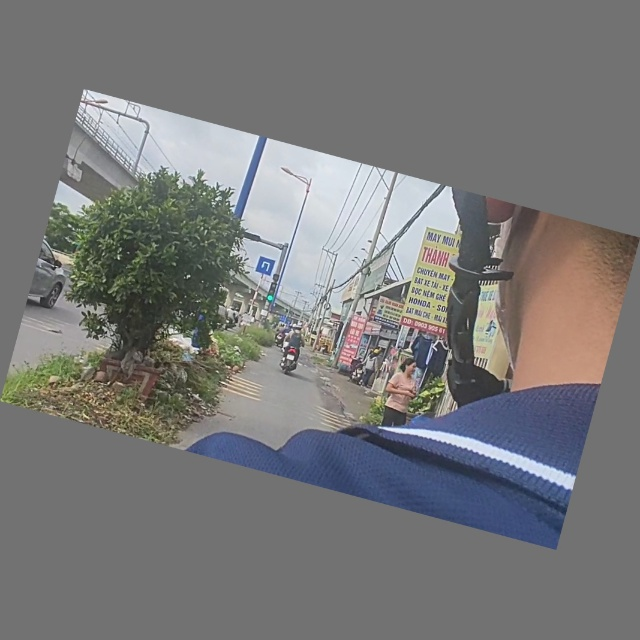I.409: (254, 255, 278, 279)
